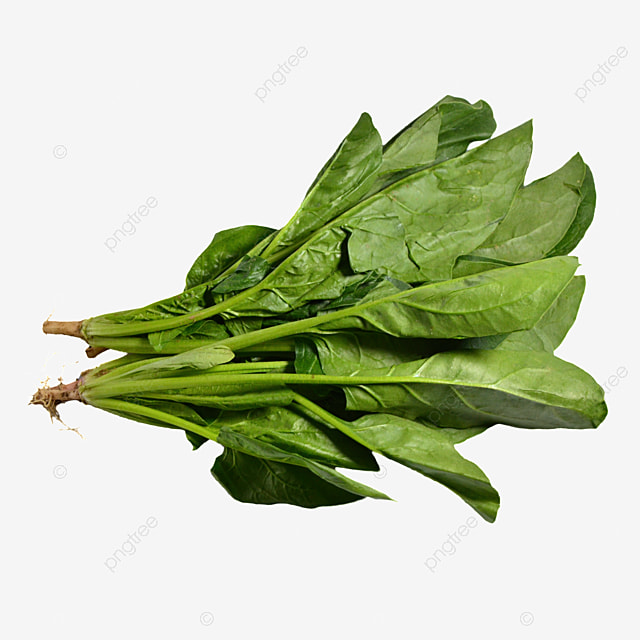Bayam: (57, 120, 585, 563)
